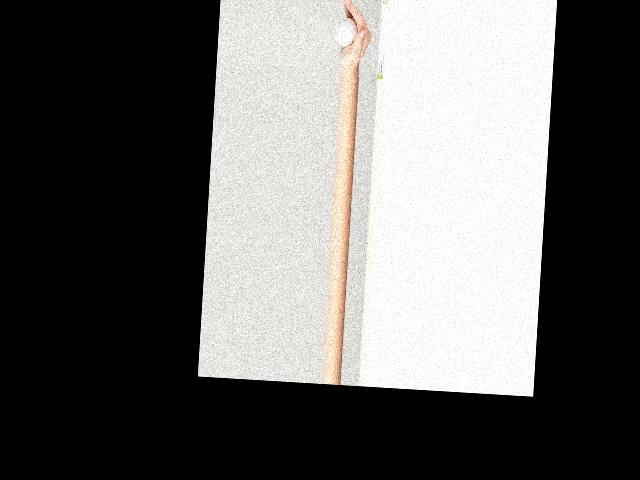egg: (336, 16, 358, 47)
